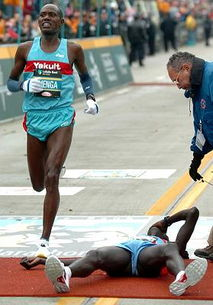10+: (1, 1, 212, 300)
down: (41, 200, 209, 302)
